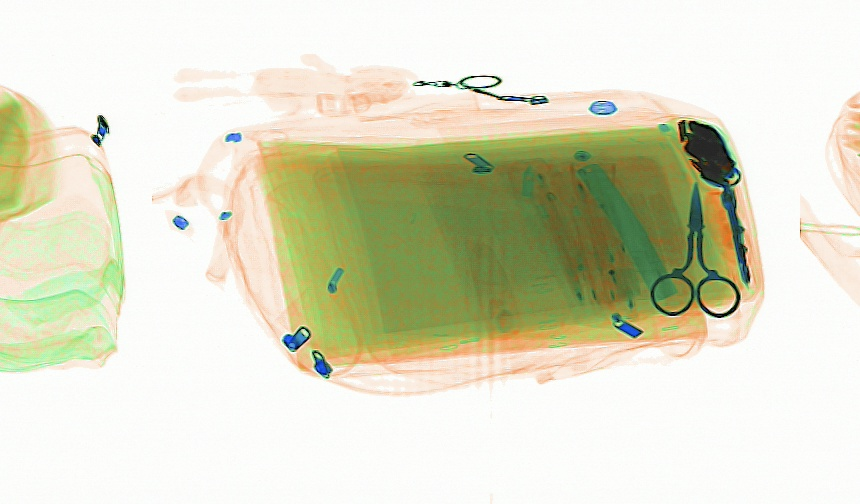scissors: (648, 178, 741, 319)
